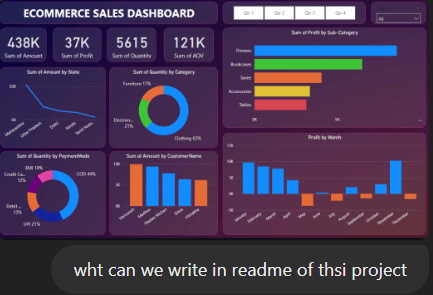

The page's visual inventory and layout, read from the dashboard file:
{"tool":"powerbi","page":{"name":"Page 1","canvas":[1280,720],"ordinal":0},"visuals":[{"type":"textbox","box":[9.6,13.7,642.2,65.9],"z":0},{"type":"columnChart","title":"Profit by Month","fields":{"Category":["Orders.Order Date.Variation.Date Hierarchy.Month"],"Y":["Details.Profit"]},"box":[666.9,400.7,599.7,301.9],"z":1000},{"type":"barChart","fields":{"Category":["Details.Sub-Category"],"Y":["Details.Profit"]},"box":[666.9,90.6,599.7,295],"z":2000},{"type":"pieChart","fields":{"Y":["Details.Quantity"],"Category":["Details.PaymentMode"]},"box":[9.6,455.6,310.1,247],"z":3000},{"type":"pieChart","fields":{"Category":["Details.Category"],"Y":["Details.Quantity"]},"box":[332.1,207.2,319.7,237.4],"z":4000},{"type":"card","fields":{"Values":["Details.Amount"]},"box":[9.6,90.6,135.8,100.2],"z":5000},{"type":"card","fields":{"Values":["Details.Profit"]},"box":[164.7,90.6,142.7,100.2],"z":6000},{"type":"card","fields":{"Values":["Details.Quantity"]},"box":[325.2,90.6,144.1,100.2],"z":7000},{"type":"card","fields":{"Values":["Details.AOV"]},"box":[492.6,90.6,146.8,100.2],"z":8000},{"type":"lineChart","fields":{"Category":["Orders.State"],"Y":["Details.Amount"]},"box":[9.6,207.2,310.1,237.4],"z":9000},{"type":"columnChart","fields":{"Category":["Orders.CustomerName"],"Y":["Details.Amount"]},"box":[332.1,455.6,319.7,247],"z":10000},{"type":"slicer","fields":{"Values":["Orders.Order Date.Variation.Date Hierarchy.Quarter"]},"box":[666.9,13.7,421.3,65.9],"z":11000},{"type":"slicer","fields":{"Values":["Orders.State"]},"box":[1104.6,13.7,161.9,65.9],"z":12000}]}

Visuals, with their boxes on the page's 1280x720 design canvas (x1, y1, x2, y2). These are canvas units, not pixel positions in the 433x295 screenshot, which may show the page scaled, cropped or inside an application window:
textbox: crop(10, 14, 652, 80)
"Profit by Month" columnChart: crop(667, 401, 1267, 703)
barChart - Details.Sub-Category x Details.Profit: crop(667, 91, 1267, 386)
pieChart - Details.Quantity x Details.PaymentMode: crop(10, 456, 320, 703)
pieChart - Details.Category x Details.Quantity: crop(332, 207, 652, 445)
card - Details.Amount: crop(10, 91, 145, 191)
card - Details.Profit: crop(165, 91, 307, 191)
card - Details.Quantity: crop(325, 91, 469, 191)
card - Details.AOV: crop(493, 91, 639, 191)
lineChart - Orders.State x Details.Amount: crop(10, 207, 320, 445)
columnChart - Orders.CustomerName x Details.Amount: crop(332, 456, 652, 703)
slicer - Orders.Order Date.Variation.Date Hierarchy.Quarter: crop(667, 14, 1088, 80)
slicer - Orders.State: crop(1105, 14, 1266, 80)
